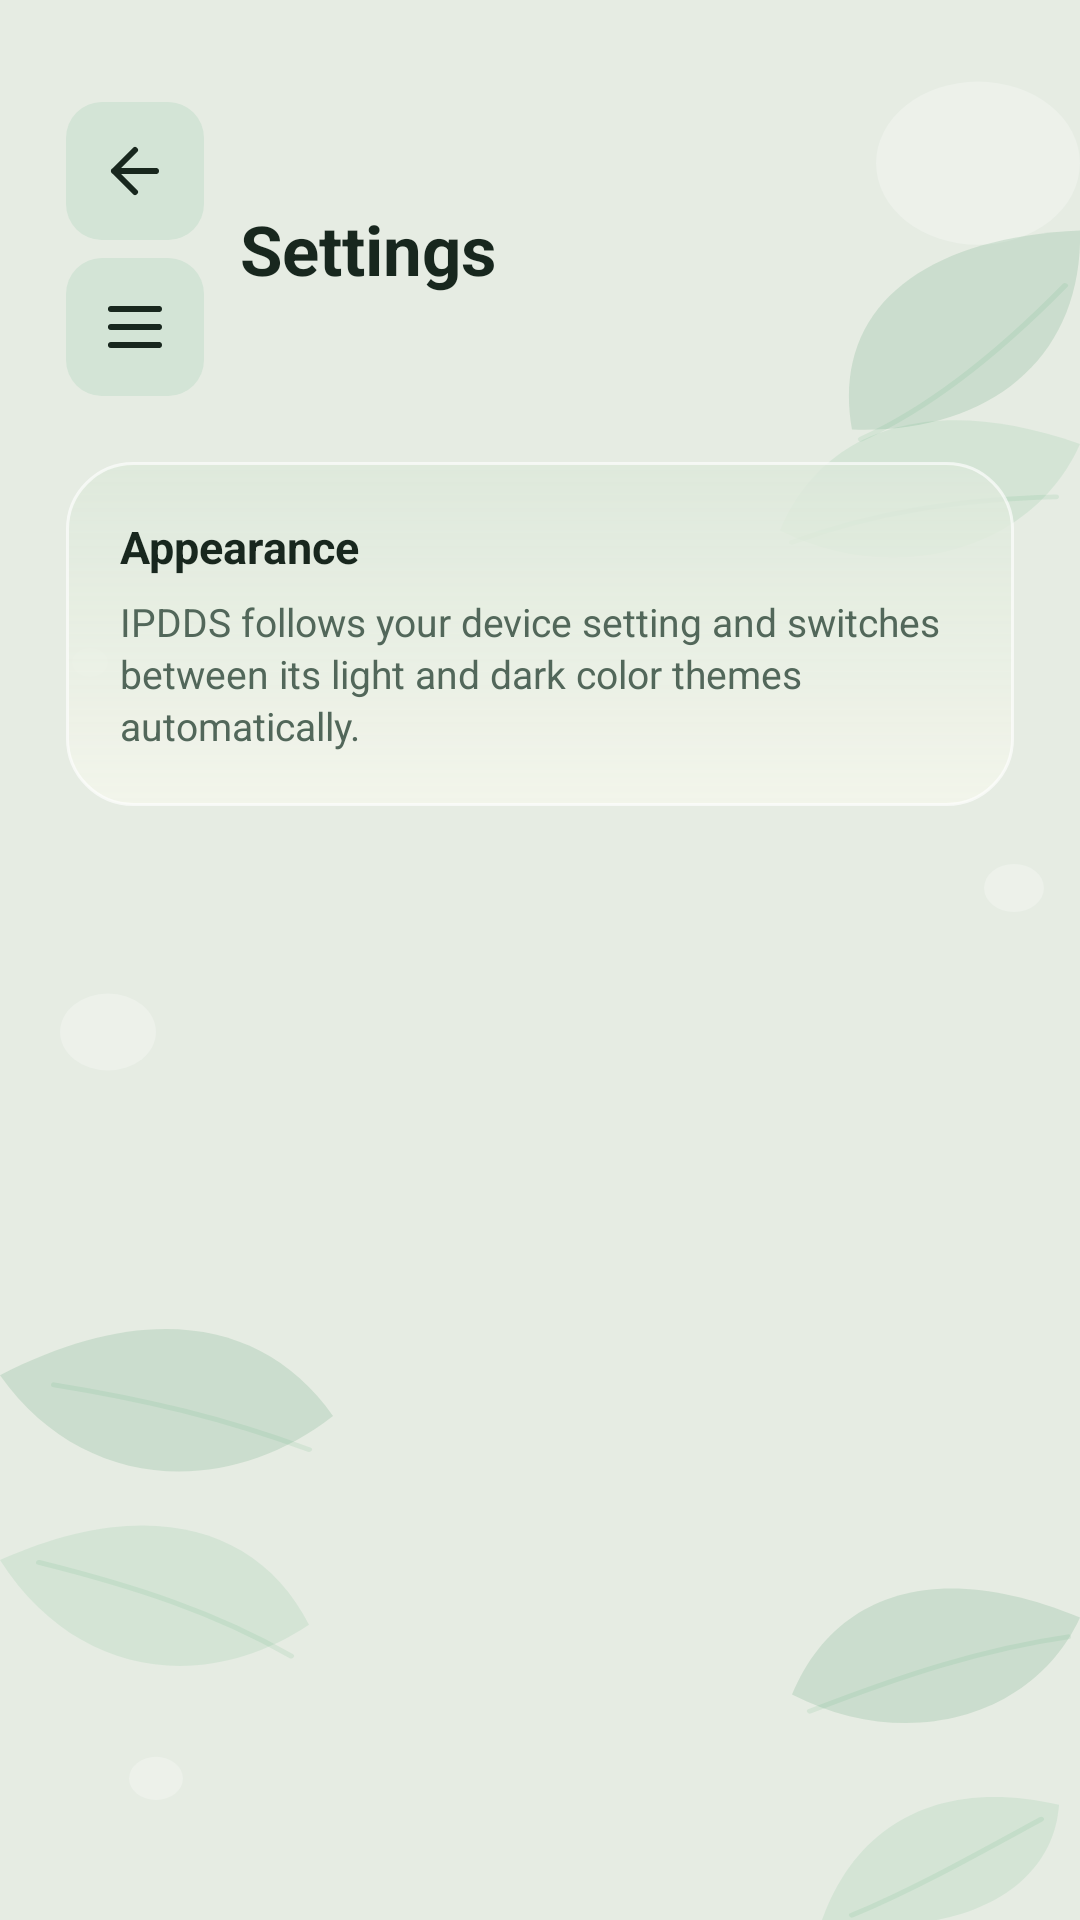

Named icons in this screenshot (1080x1920) and their centers, point (x, y):
Back to previous page: point (135, 171)
Open navigation menu: point (135, 327)
